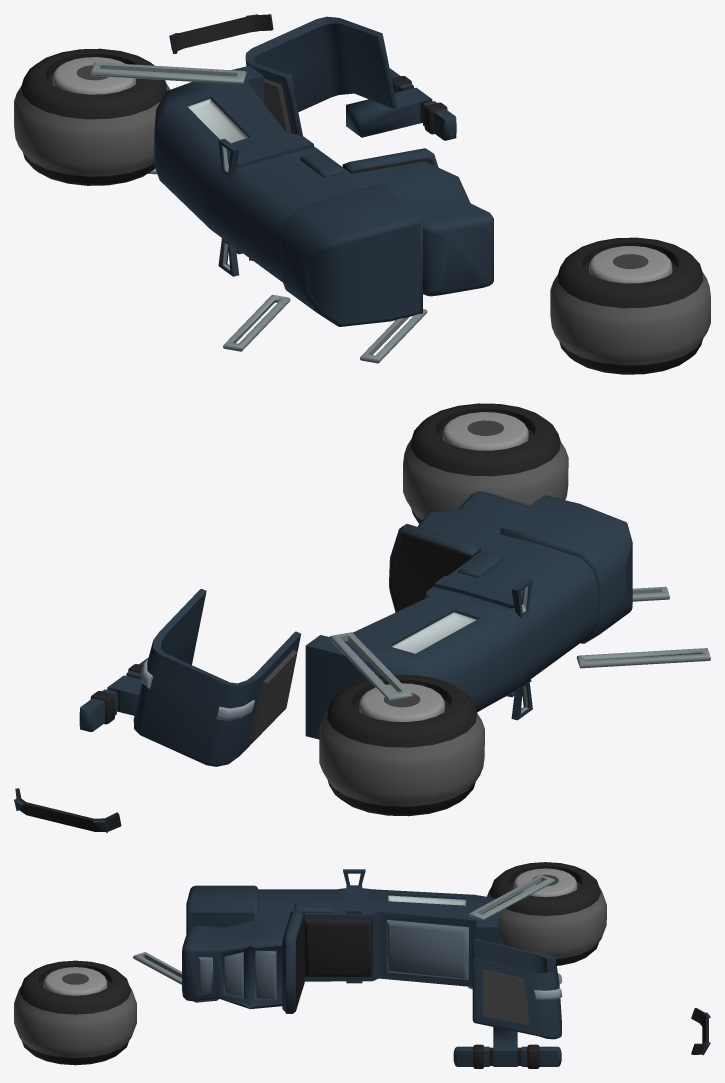
The model's file is Motorcycle-Parts.fbx.
3 views of the same model, one above another, from view 1: azimuth 30°, elevation 25°; view 2: azimuth 150°, elevation 25°; view 3: azimuth 270°, elevation 25° (orthographic). The views are drawn at different scales.
Parts seen in each view (by area): view 1: Motorcycle-Parts; view 2: Motorcycle-Parts; view 3: Motorcycle-Parts.
Part boxes in pixels (left/top/right/bottom): Motorcycle-Parts: left=14, top=14, right=710, bottom=374; Motorcycle-Parts: left=14, top=403, right=710, bottom=833; Motorcycle-Parts: left=14, top=862, right=710, bottom=1068.
Size of the model in its own units: 2.23 by 0.682 by 4.49.
